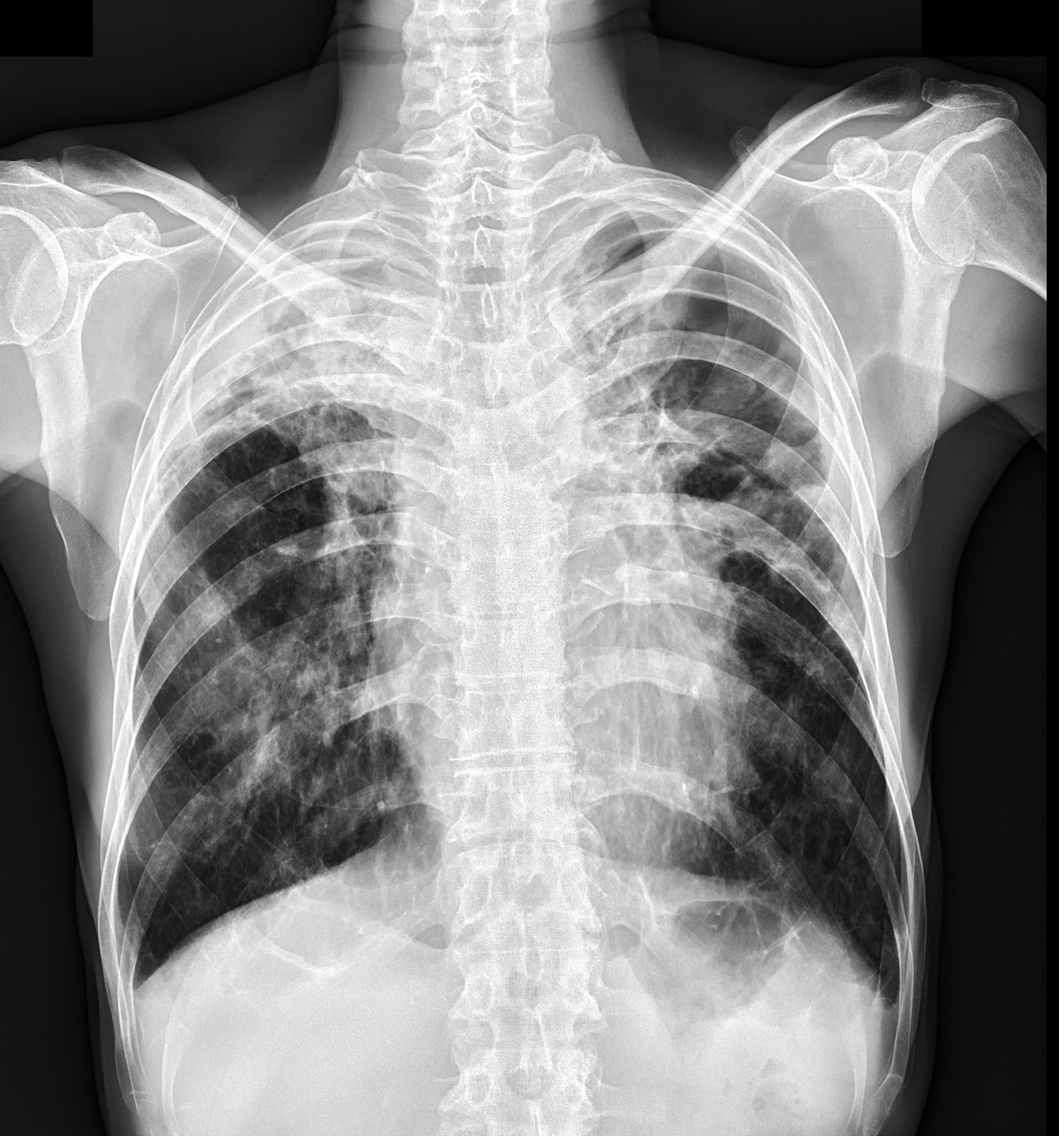Pleural thickening: (146, 215, 357, 394), (749, 242, 821, 345)
Pulmonary fibrosis: (585, 340, 847, 595), (142, 515, 363, 798), (157, 292, 393, 494)
